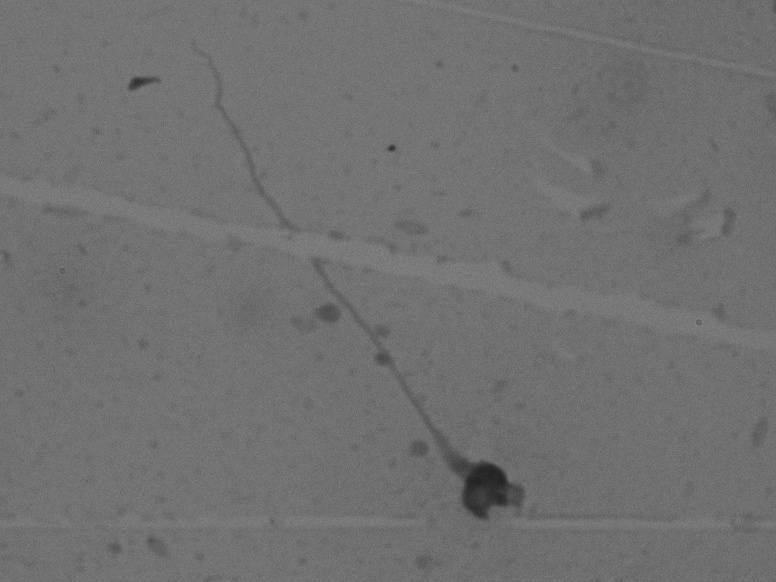Abnormal: (168, 40, 553, 563)
